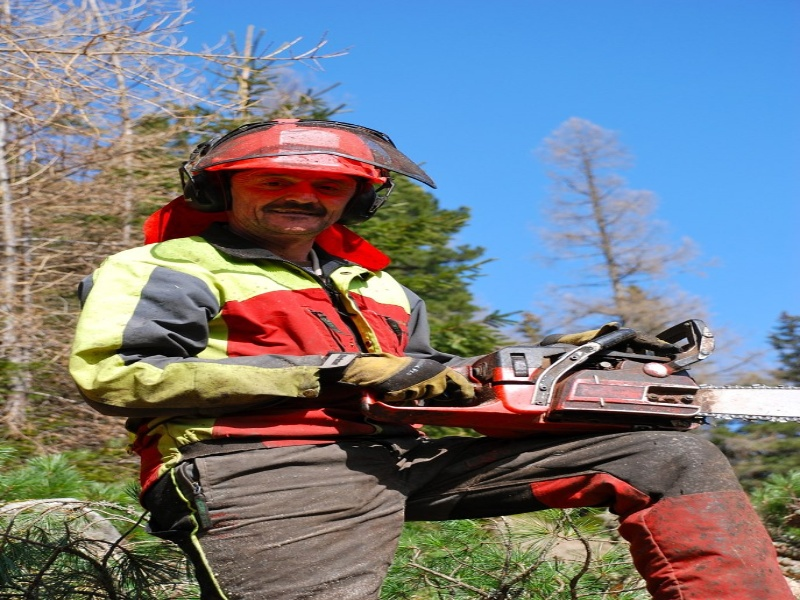helmet: (191, 123, 391, 186)
jacket: (116, 237, 420, 446)
